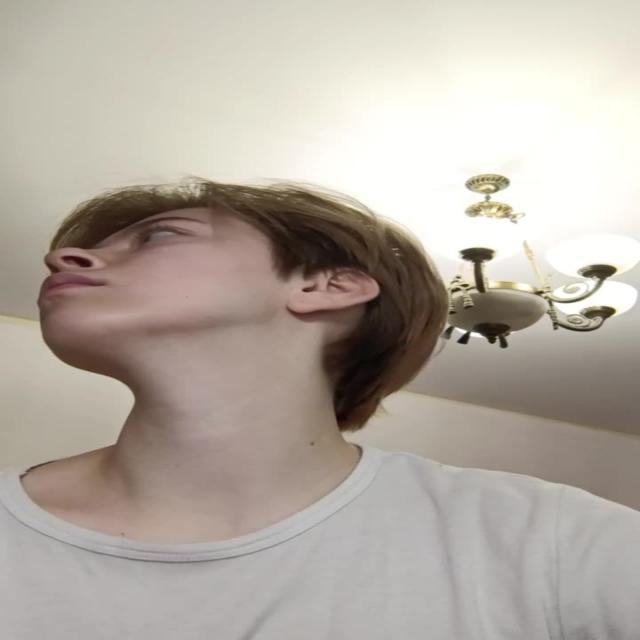earlobe: (287, 299, 335, 314)
eye: (135, 230, 195, 246)
nose: (44, 262, 96, 278)
wholeear: (287, 267, 381, 312)
